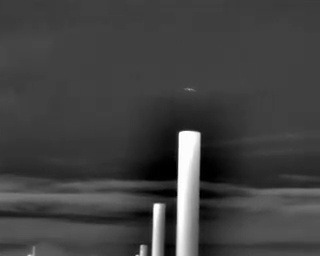BIRD: (183, 85, 197, 95)
